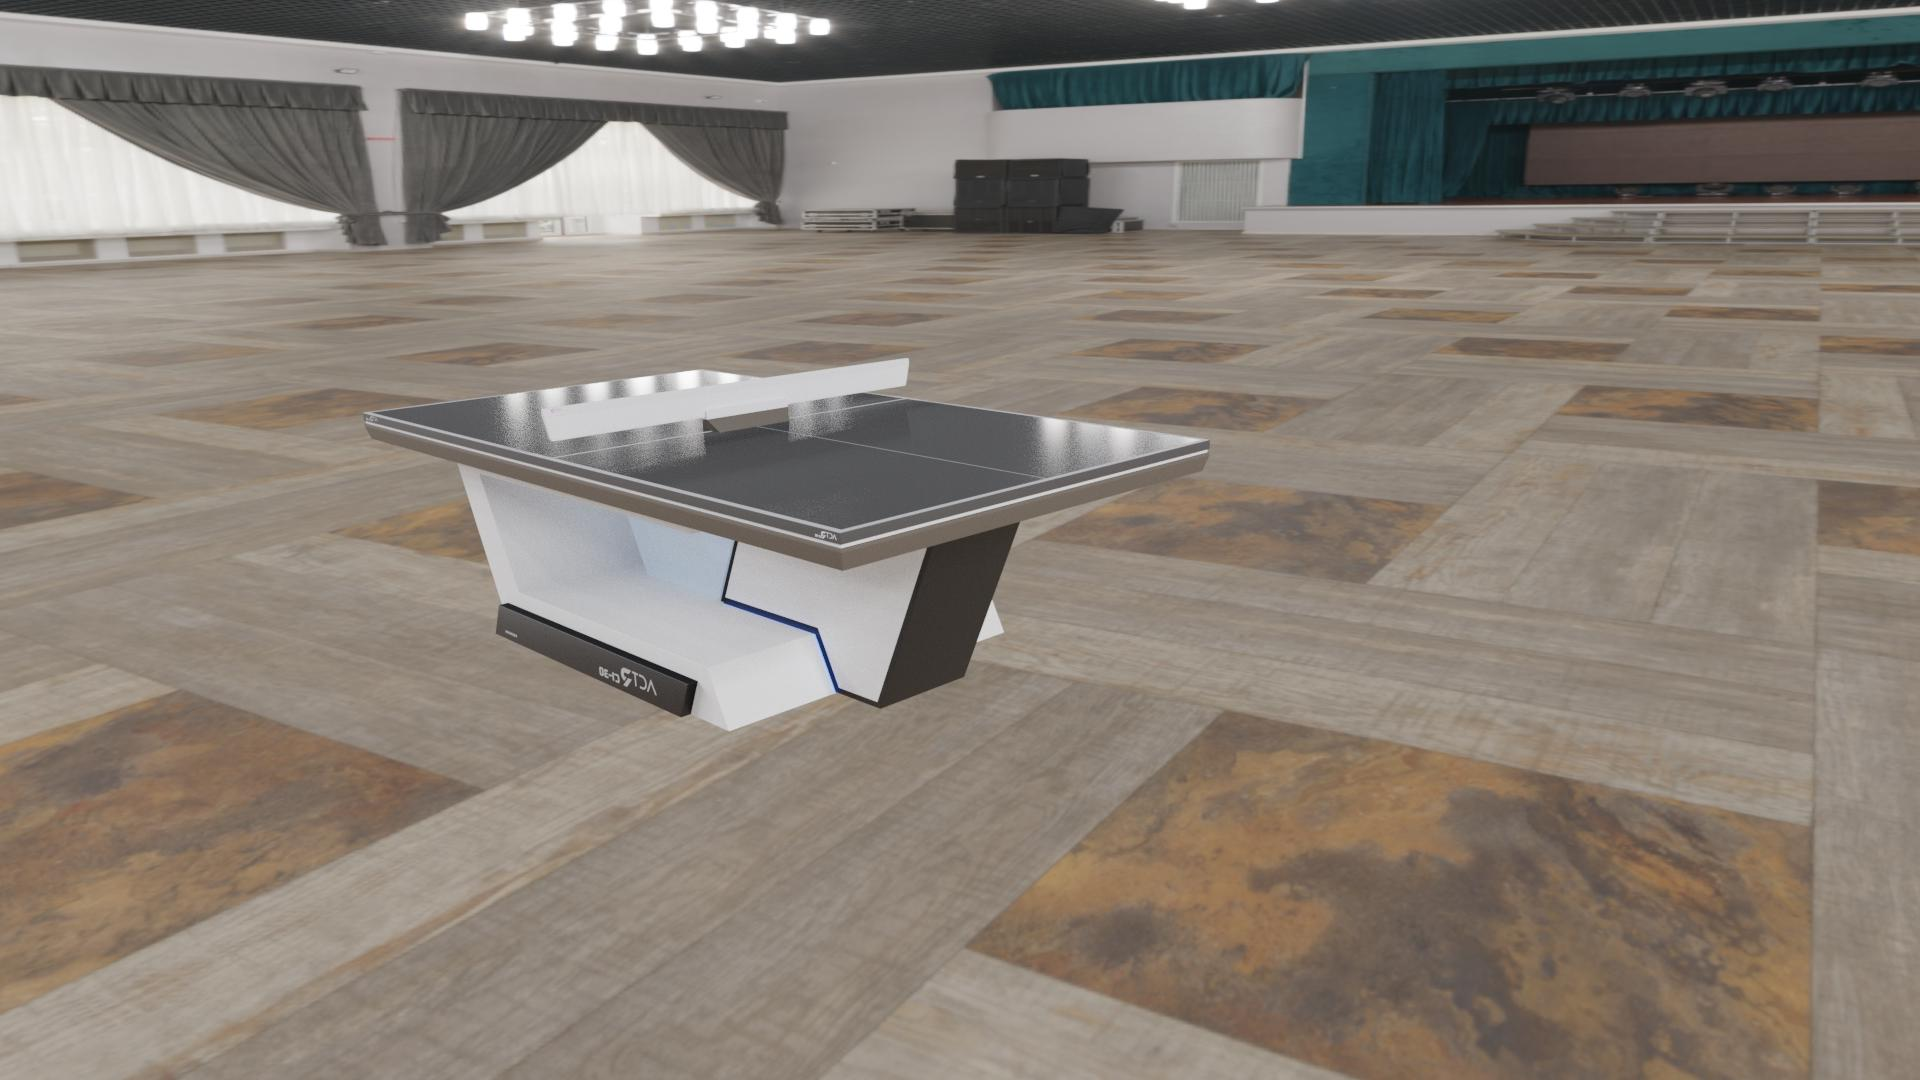table: (371, 371, 1201, 530)
